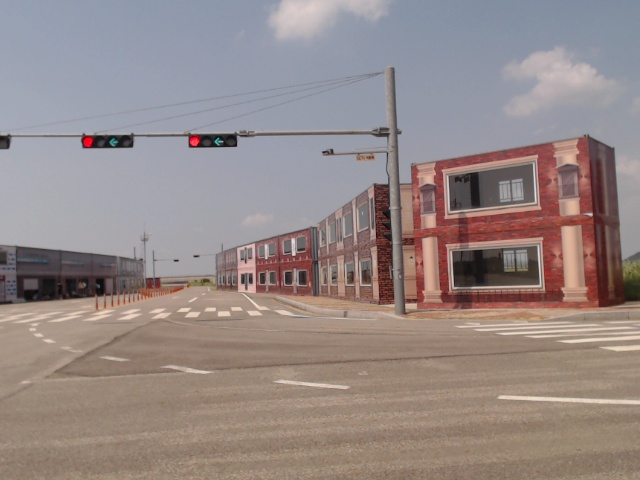left_green_4: (83, 134, 134, 148), (189, 135, 236, 149)
